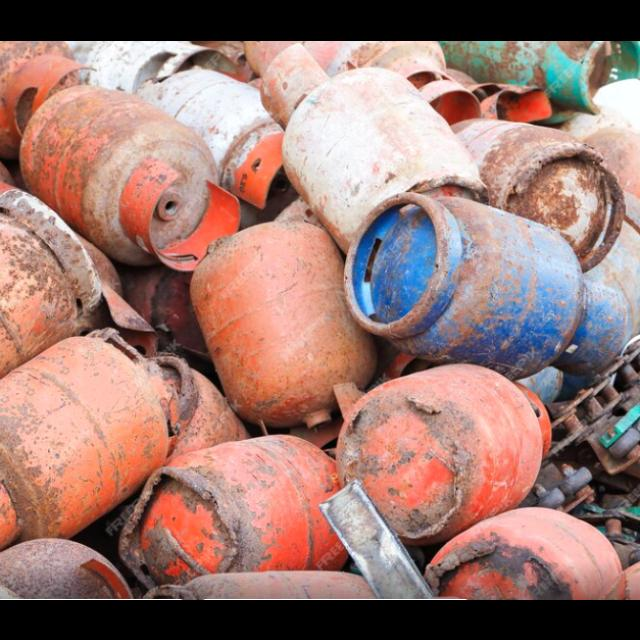Cylinders: (343, 188, 636, 374), (29, 83, 247, 267)
